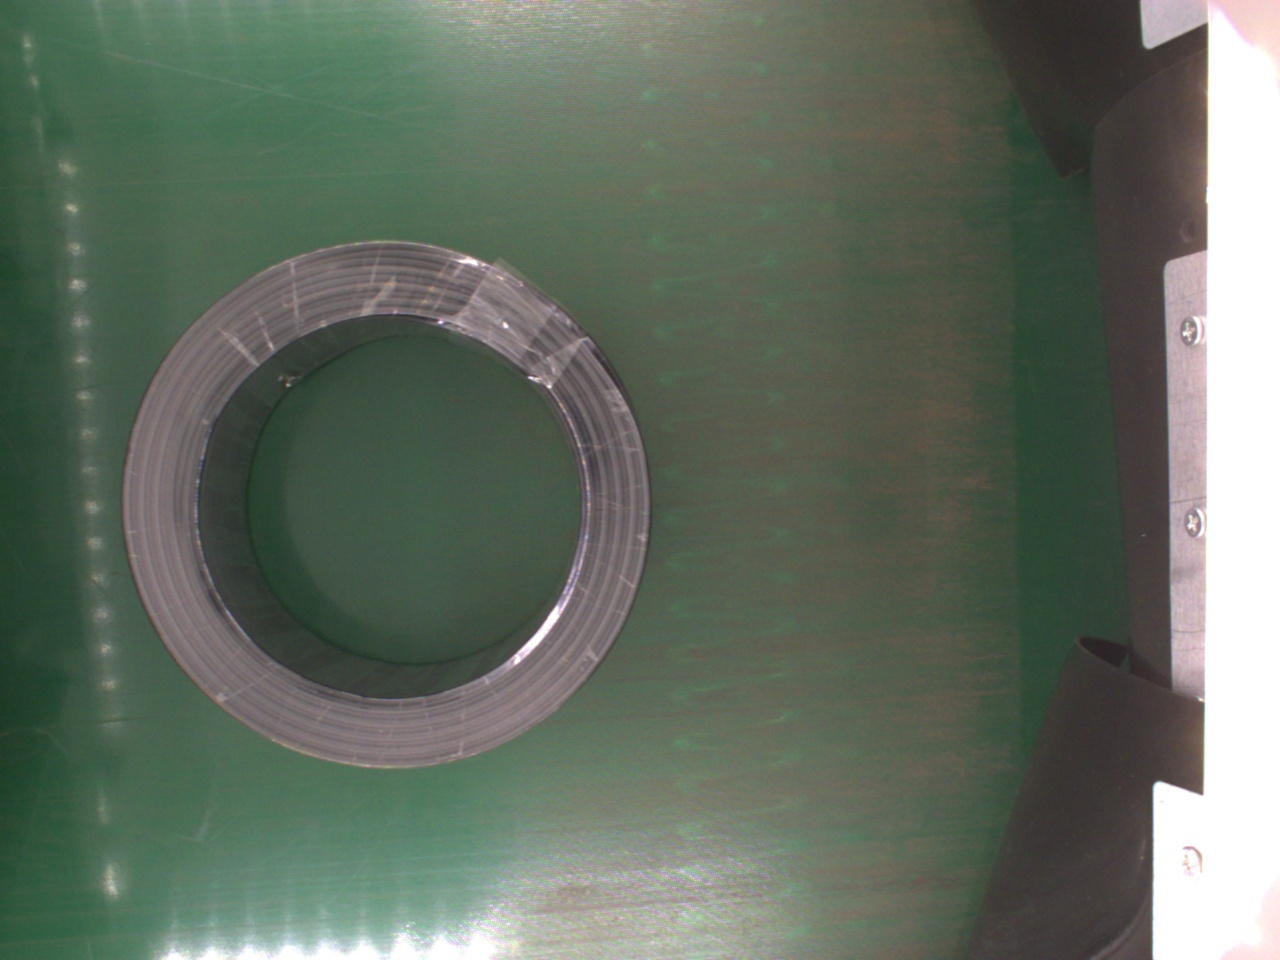black: (118, 240, 650, 768)
